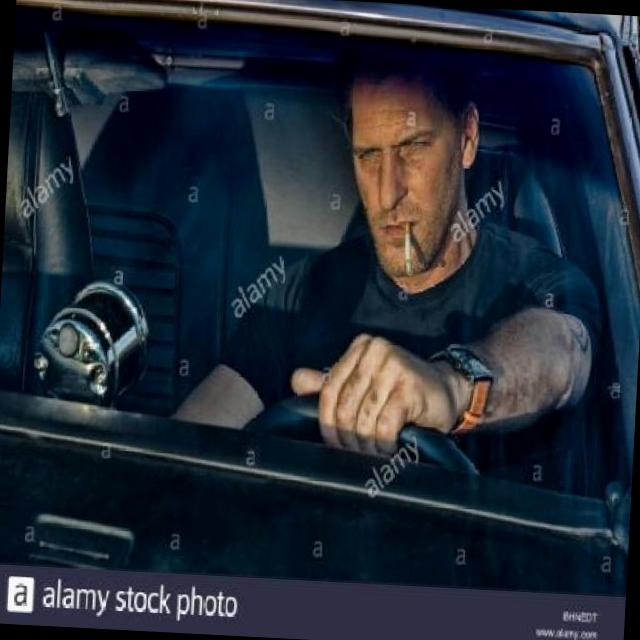cigarette: (398, 220, 418, 278)
